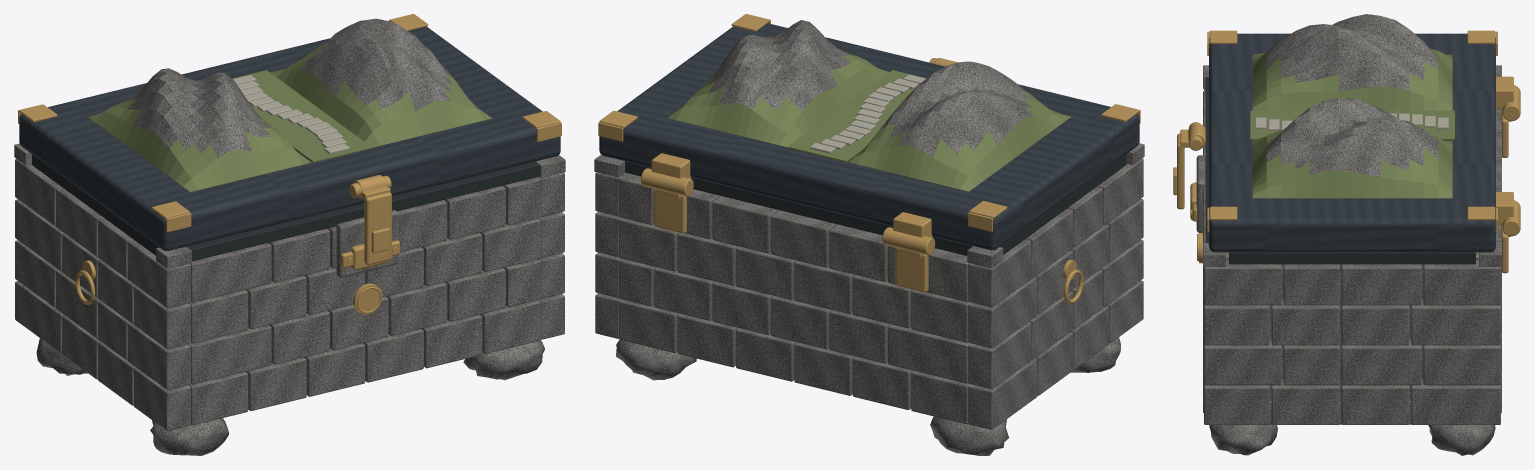
File: andorra.glb
3 renders of one model, left to right at view 1: azimuth 30°, elevation 25°; view 2: azimuth 150°, elevation 25°; view 3: azimuth 270°, elevation 25°, orthographic. The views are drawn at different scales.
Parts seen in each view (by area): view 1: Lid / polished slab, Terrain / valley flank 1, Terrain / valley flank -1, Mineral seam / long, Terrain / valley pasture, Masonry / long block.036, Masonry / long block.012, Masonry / side block.024, Masonry / side block.008, Masonry / long block.002, Masonry / long block.015, Masonry / long block.037 (+44 smaller); view 2: Lid / polished slab, Terrain / valley flank -1, Terrain / valley flank 1, Masonry / long block.018, Terrain / valley pasture, Mineral seam / long.001, Masonry / side block.019, Masonry / side block.003, Masonry / long block.045, Masonry / long block.044, Masonry / long block.043, Masonry / side block.027 (+48 smaller); view 3: Lid / polished slab, Terrain / valley flank 1, Terrain / valley flank -1, Masonry / side block.023, Masonry / side block.007, Masonry / side block.030, Masonry / side block.014, Masonry / side block.028, Masonry / side block.031, Masonry / side block.012, Mineral seam / side.001, Masonry / side block.015 (+25 smaller).
Boxes of the visible parts, <box> form: Lid / polished slab: <box>19,26,560,250</box>; Terrain / valley flank 1: <box>270,18,491,147</box>; Terrain / valley flank -1: <box>88,68,310,192</box>; Mineral seam / long: <box>186,161,539,261</box>; Terrain / valley pasture: <box>232,70,371,162</box>; Masonry / long block.036: <box>190,243,271,302</box>; Masonry / long block.012: <box>188,325,271,384</box>; Masonry / side block.024: <box>127,240,190,308</box>; Masonry / side block.008: <box>127,322,190,389</box>; Masonry / long block.002: <box>304,343,365,396</box>; Masonry / long block.015: <box>386,282,447,335</box>; Masonry / long block.037: <box>268,228,329,282</box>; Lid / polished slab: <box>599,23,1139,250</box>; Terrain / valley flank -1: <box>848,61,1070,191</box>; Terrain / valley flank 1: <box>668,20,889,147</box>; Masonry / long block.018: <box>888,324,970,383</box>; Terrain / valley pasture: <box>788,70,926,162</box>; Mineral seam / long.001: <box>625,161,972,255</box>; Masonry / side block.019: <box>968,276,1037,348</box>; Masonry / side block.003: <box>968,358,1037,429</box>; Masonry / long block.045: <box>712,196,778,253</box>; Masonry / long block.044: <box>771,210,837,267</box>; Masonry / long block.043: <box>829,224,887,281</box>; Masonry / side block.027: <box>968,239,1031,307</box>; Lid / polished slab: <box>1209,33,1495,252</box>; Terrain / valley flank 1: <box>1252,97,1452,198</box>; Terrain / valley flank -1: <box>1252,14,1452,110</box>; Masonry / side block.023: <box>1411,299,1500,345</box>; Masonry / side block.007: <box>1411,379,1500,424</box>; Masonry / side block.030: <box>1341,264,1421,305</box>; Masonry / side block.014: <box>1341,339,1421,385</box>; Masonry / side block.028: <box>1204,260,1281,305</box>; Masonry / side block.031: <box>1423,260,1500,305</box>; Masonry / side block.012: <box>1204,339,1281,385</box>; Mineral seam / side.001: <box>1229,252,1475,264</box>; Masonry / side block.015: <box>1423,345,1500,385</box>.
Size of the model in its own units: 3.79 by 2.87 by 2.88.
6 materials, 2 textured.
